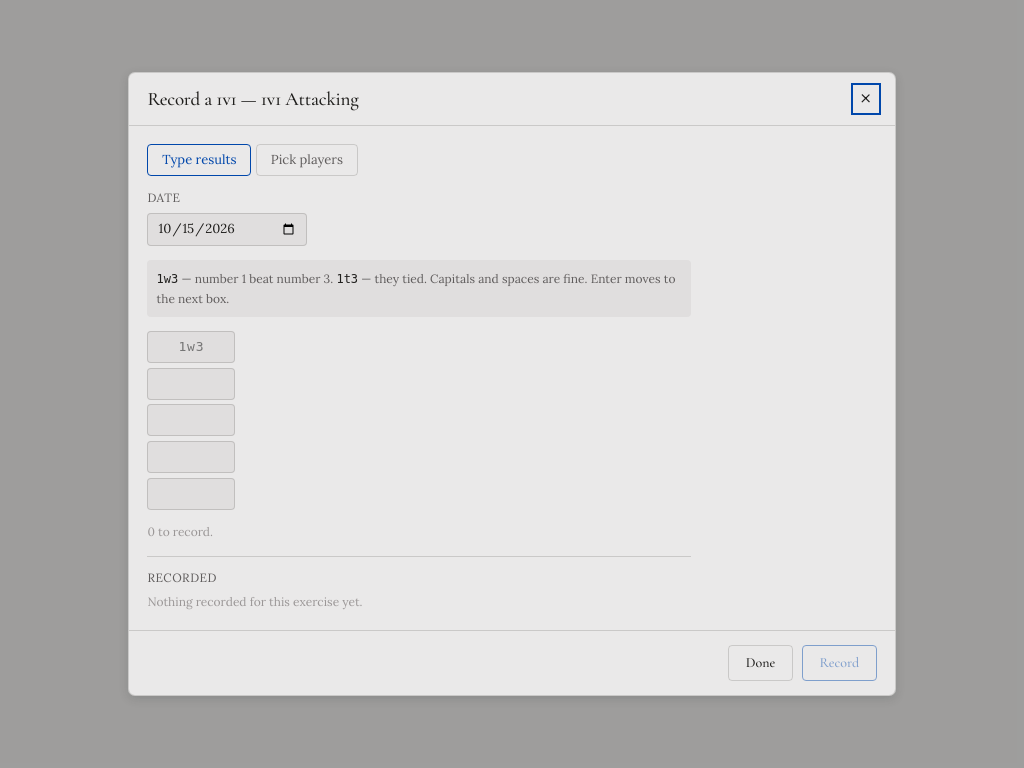
the picker: choosing the pairing › names the outcomes by the players rather than by a and b
Click the button "Pick players": [307, 160] box [256, 144, 358, 176]
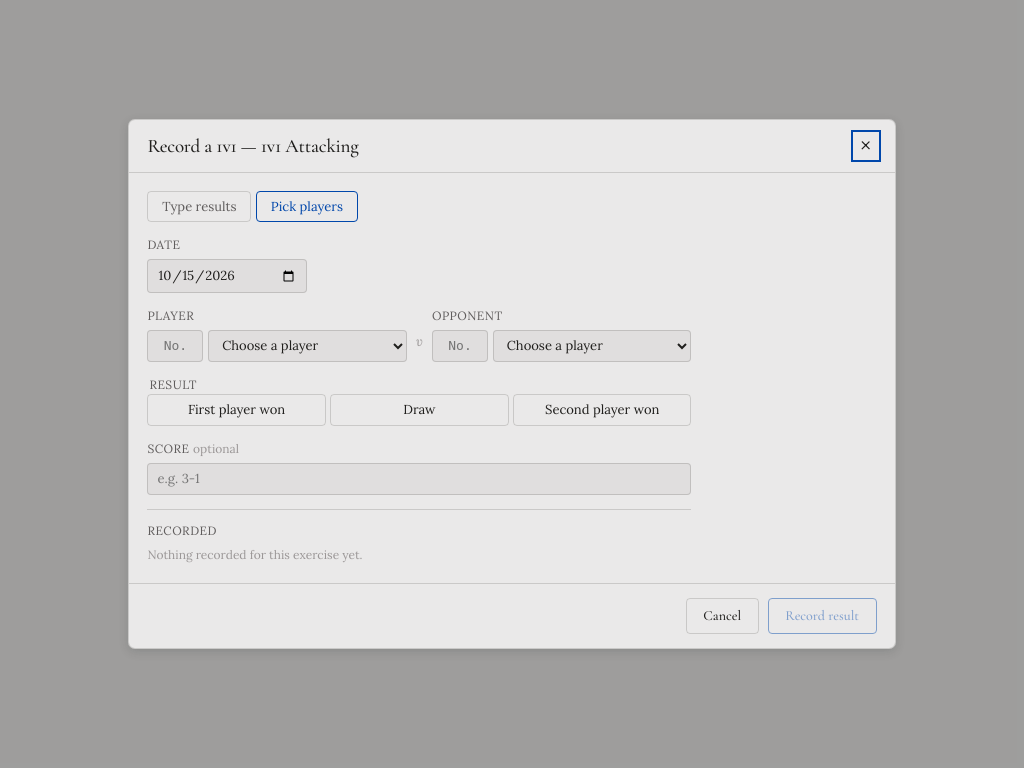
Select "(7) Cesar A." in the dropdown named "Player": [307, 346] box [208, 330, 407, 362]
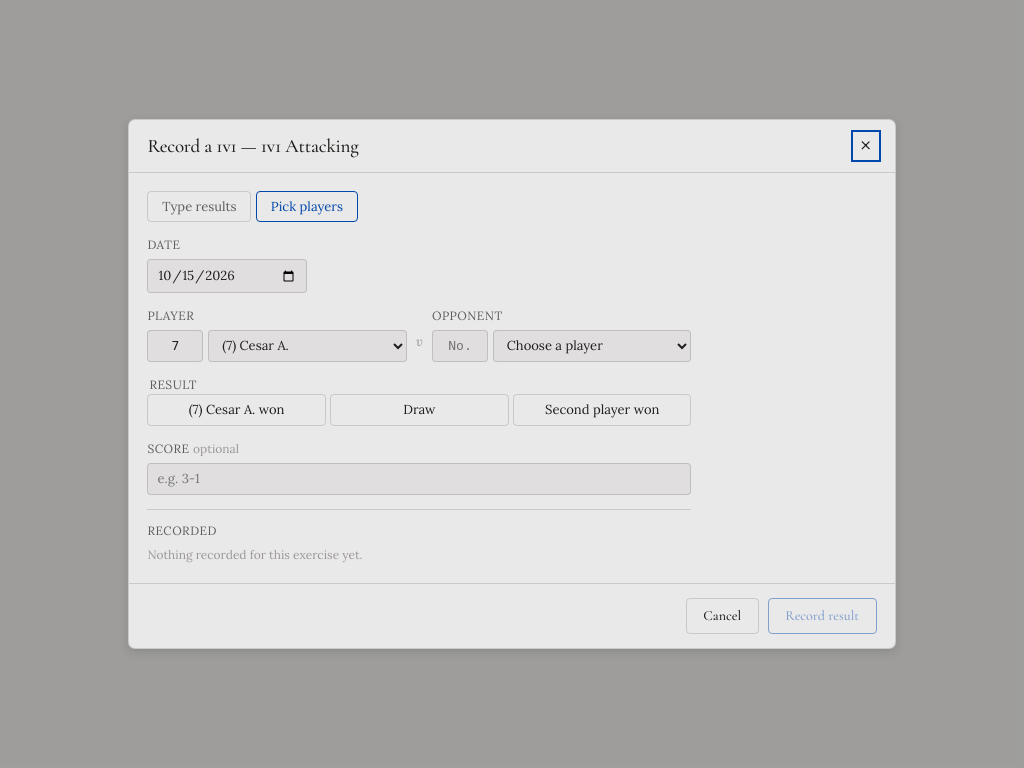
Select "(3) Caleb R." in the dropdown named "Opponent": [592, 346] box [493, 330, 691, 362]
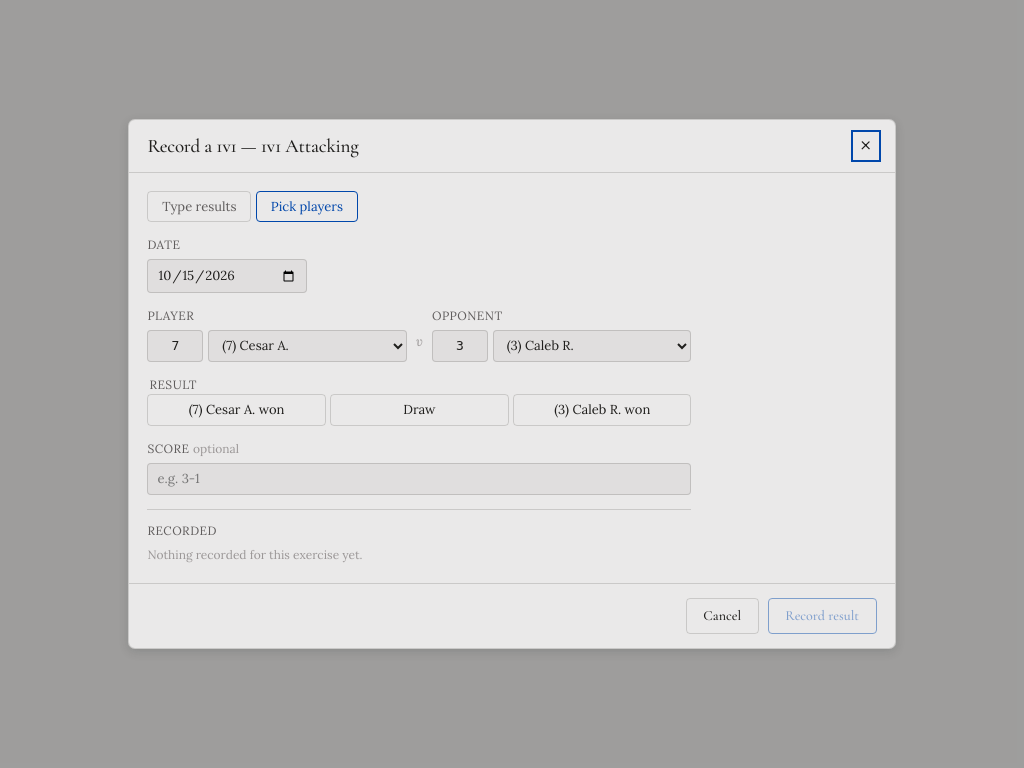
Now the button "(7) Cesar A. won" is shown, box [147, 394, 326, 426]
Now the button "Draw" is shown, box [330, 394, 509, 426]
Now the button "(3) Caleb R. won" is shown, box [513, 394, 691, 426]
